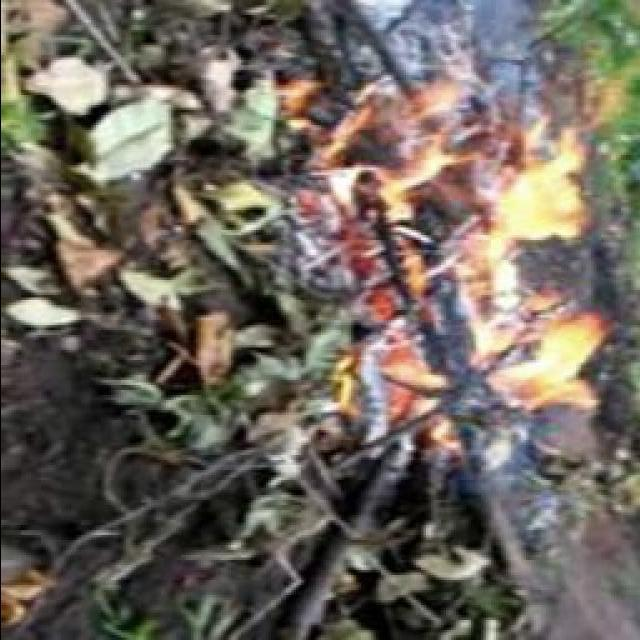Fire: (301, 62, 616, 462)
